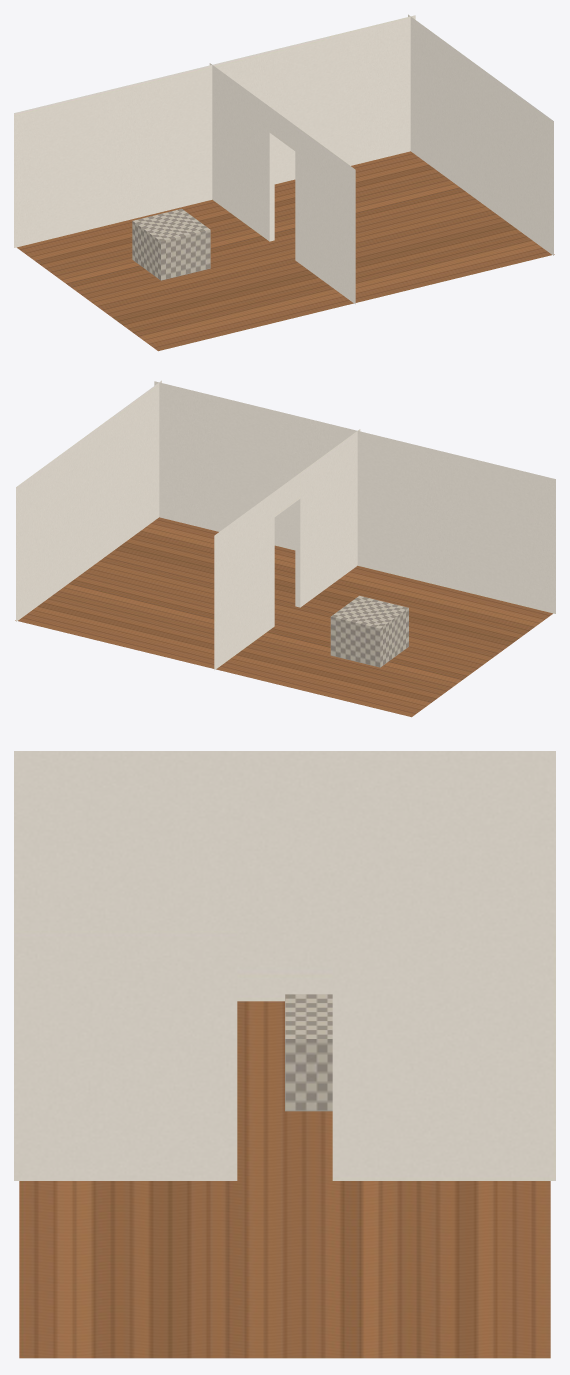
The model's file is synthetic-two-room.model.glb.
3 renders of one model, top to bottom at view 1: azimuth 30°, elevation 25°; view 2: azimuth 150°, elevation 25°; view 3: azimuth 270°, elevation 25°, orthographic. The views are drawn at different scales.
Visible parts, largest first — view 1: wall-north-seg0:b, floor-0-poly0, wall-east-seg0:b, wall-divider-seg1:a, wall-divider-seg0:a, table-0:side2, table-0:top, table-0:side3, wall-divider-lintel-door-0:a, wall-divider-seg0:cap1; view 2: wall-south-seg0:b, floor-0-poly0, wall-east-seg0:b, wall-divider-seg0:a, wall-divider-seg1:a, table-0:side0, table-0:top, table-0:side3, wall-divider-lintel-door-0:a, wall-divider-seg1:cap0; view 3: floor-0-poly0, wall-west-seg0:b, wall-divider-seg0:b, wall-divider-seg1:b, wall-divider-lintel-door-0:b, table-0:side1, table-0:top.
Boxes of the visible parts, bbox=[...] form: wall-north-seg0:b: bbox=[14, 15, 415, 247]; floor-0-poly0: bbox=[17, 151, 554, 351]; wall-east-seg0:b: bbox=[408, 14, 553, 255]; wall-divider-seg1:a: bbox=[295, 126, 355, 304]; wall-divider-seg0:a: bbox=[209, 63, 269, 241]; table-0:side2: bbox=[161, 229, 210, 280]; table-0:top: bbox=[132, 209, 209, 241]; table-0:side3: bbox=[132, 221, 160, 280]; wall-divider-lintel-door-0:a: bbox=[269, 107, 295, 150]; wall-divider-seg0:cap1: bbox=[269, 105, 274, 241]; wall-south-seg0:b: bbox=[154, 381, 555, 613]; floor-0-poly0: bbox=[15, 517, 552, 717]; wall-east-seg0:b: bbox=[16, 380, 161, 621]; wall-divider-seg0:a: bbox=[214, 492, 274, 670]; wall-divider-seg1:a: bbox=[300, 429, 360, 607]; table-0:side0: bbox=[330, 617, 380, 667]; table-0:top: bbox=[331, 595, 408, 628]; table-0:side3: bbox=[380, 608, 408, 667]; wall-divider-lintel-door-0:a: bbox=[274, 473, 300, 516]; wall-divider-seg1:cap0: bbox=[295, 471, 300, 607]; floor-0-poly0: bbox=[19, 1001, 550, 1358]; wall-west-seg0:b: bbox=[14, 751, 555, 1001]; wall-divider-seg0:b: bbox=[332, 930, 555, 1180]; wall-divider-seg1:b: bbox=[14, 930, 237, 1180]; wall-divider-lintel-door-0:b: bbox=[237, 930, 332, 978]; table-0:side1: bbox=[285, 1039, 332, 1111]; table-0:top: bbox=[285, 994, 332, 1038].
Bounding box in the file's own units: 8.1 × 2.6 × 5.1.
Materials: 1 (1 with a texture image).
